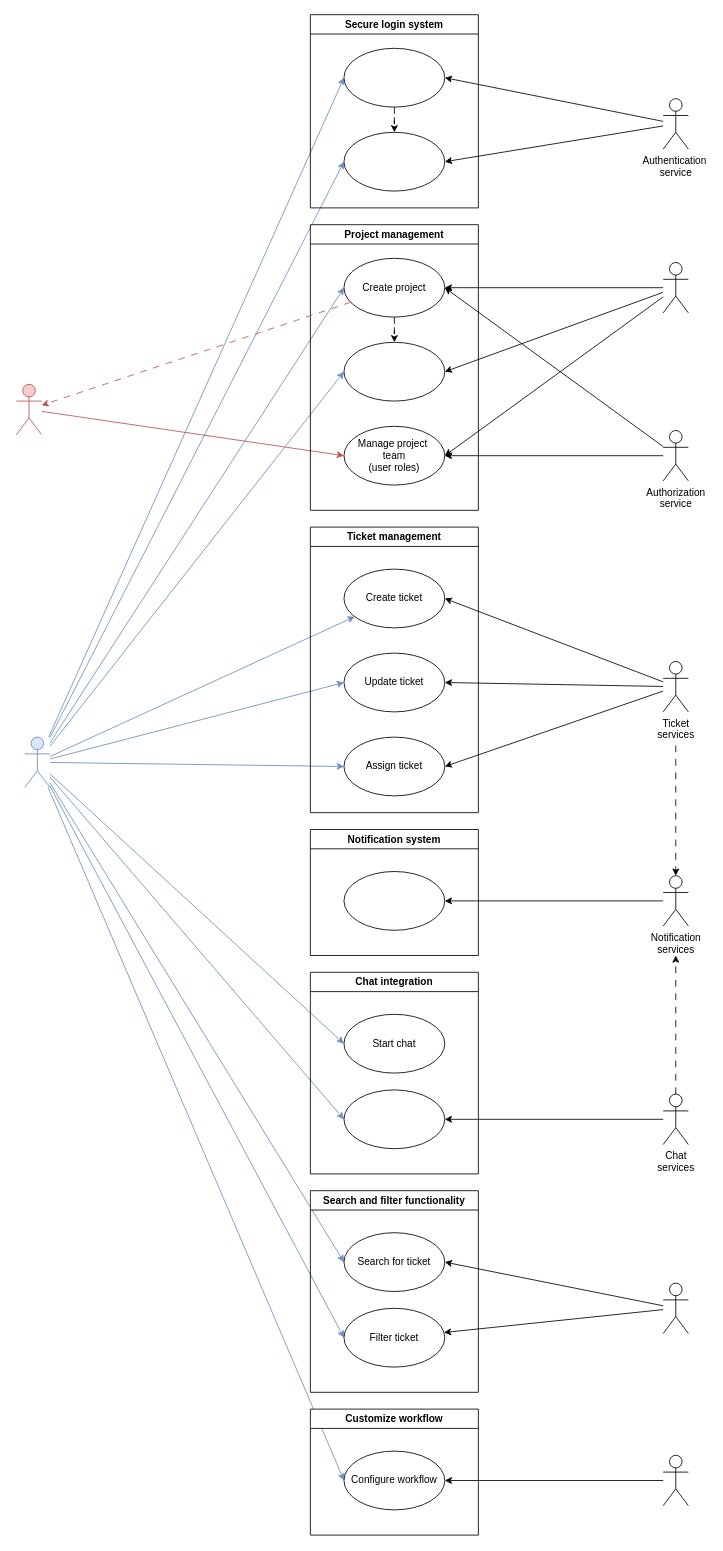
Image size: 723x1551. Some labels were removed from this diagram. Each missing label, with the centre of its shape:
Admin: the point at 29,409
Configuration services: the point at 675,1480
Login: the point at 394,161
Project service: the point at 675,287
Register user: the point at 394,77
Search services: the point at 675,1308
Select project: the point at 394,371
Send message: the point at 394,1119
Send notification: the point at 394,900
User: the point at 37,762
